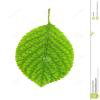Apple leaf: (13, 21, 77, 91)
